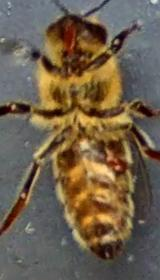varroa_mite: (94, 139, 138, 176)
